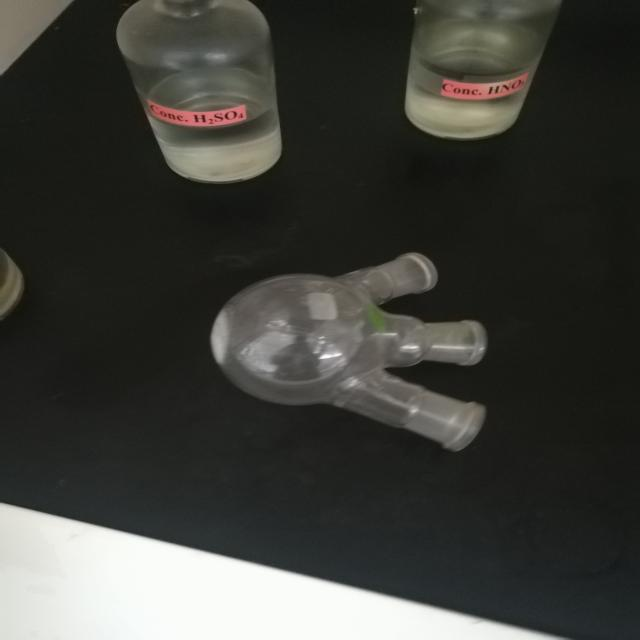Round_Bottom_Flask_Borosilicate_Glass_3_Neck: (168, 212, 533, 504)
